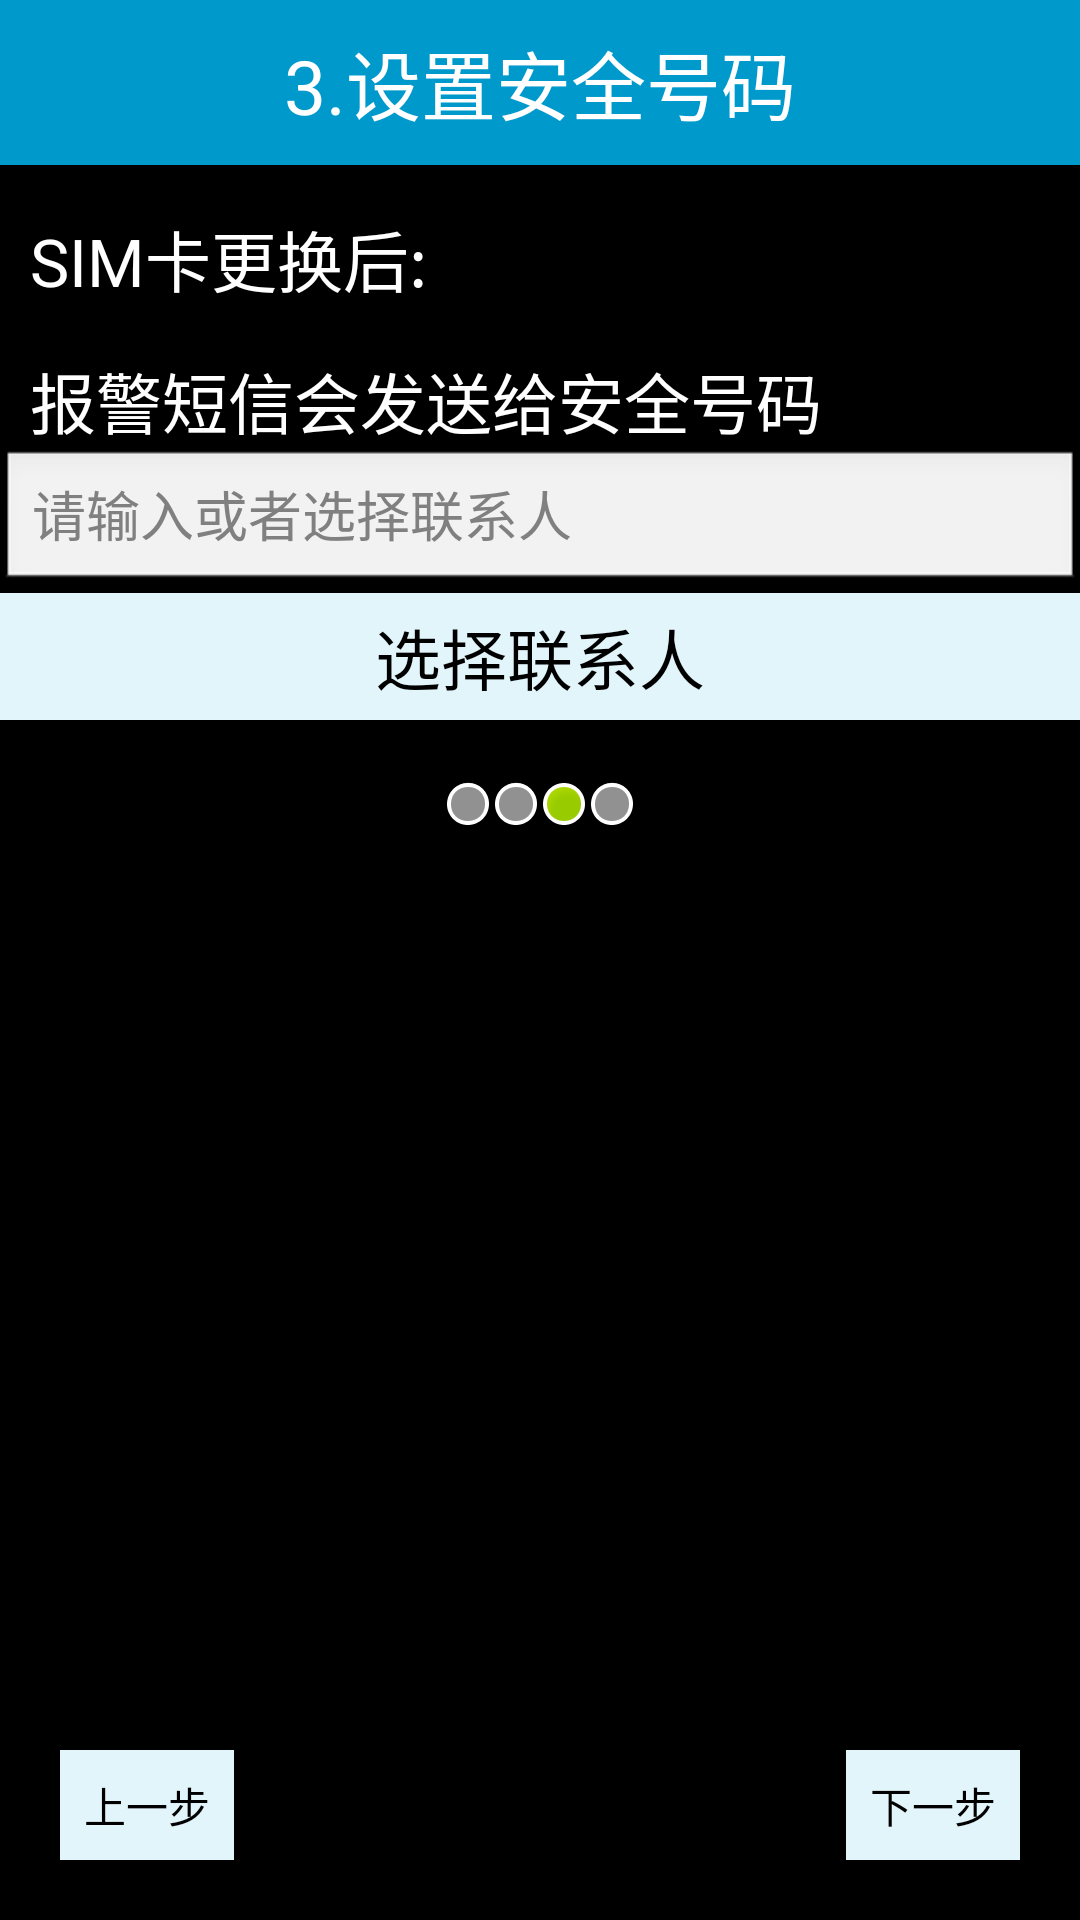

Point at icon controls on the screen. Image size 1080px×1920px, points as (x=x, y=y).
presence invisible: (x=468, y=803), (x=516, y=803), (x=612, y=803)
presence online: (x=564, y=804)
